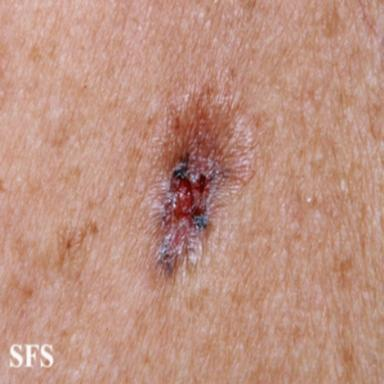basal-cell-carcinoma: (152, 82, 254, 286)
